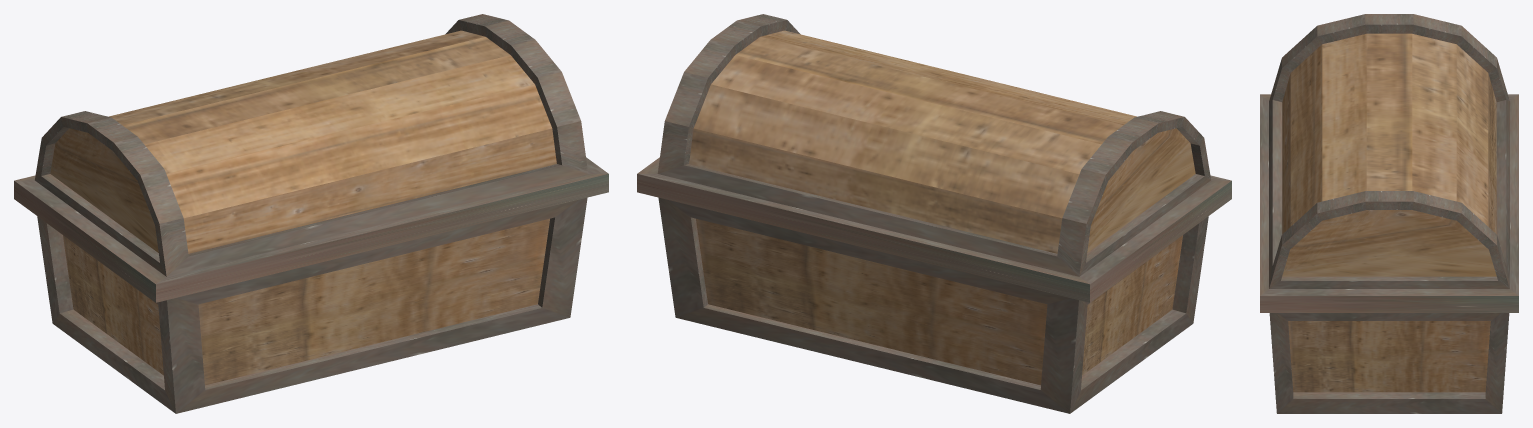
Rendered from chest.glb.
3 views of the same model, side by side, from view 1: azimuth 30°, elevation 25°; view 2: azimuth 150°, elevation 25°; view 3: azimuth 270°, elevation 25° (orthographic). The views are drawn at different scales.
Parts seen in each view (by area): view 1: Top, Bottom; view 2: Top, Bottom; view 3: Top, Bottom.
Boxes of the visible parts, x1,y1,x2,y2 form: Top: [14, 14, 608, 302]; Bottom: [37, 197, 587, 413]; Top: [637, 14, 1231, 302]; Bottom: [658, 197, 1208, 413]; Top: [1260, 14, 1518, 312]; Bottom: [1269, 313, 1509, 413].
Size of the model in its own units: 0.8596 by 0.4335 by 0.4658.
Materials: 2 (2 with a texture image).
